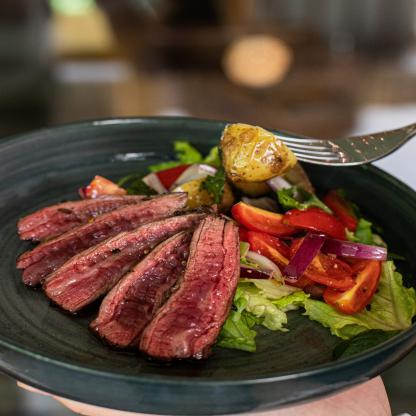Carne: (14, 192, 190, 286), (46, 209, 204, 310), (147, 208, 244, 361), (96, 214, 199, 350), (6, 192, 152, 242)
